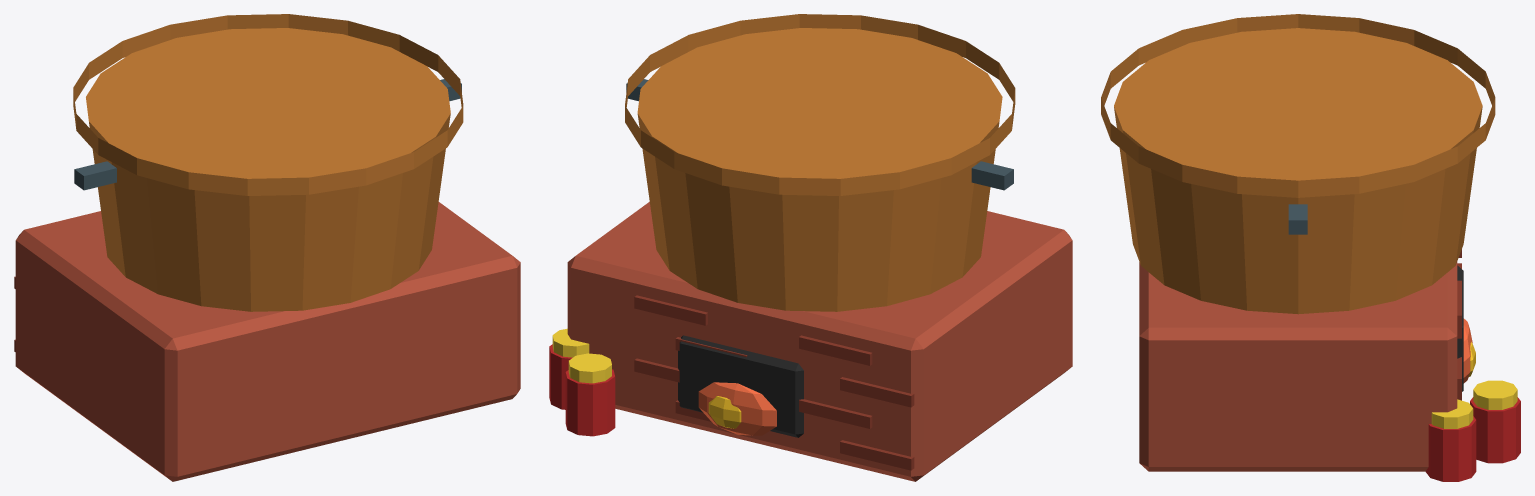
The model's file is Makine_Salca_M.fbx.
3 views of the same model, side by side, from view 1: azimuth 30°, elevation 25°; view 2: azimuth 150°, elevation 25°; view 3: azimuth 270°, elevation 25° (orthographic).
Visible parts, largest first — view 1: Makine_Salca; view 2: Makine_Salca; view 3: Makine_Salca.
Boxes of the visible parts, <box> form: Makine_Salca: <box>14,14,520,481</box>; Makine_Salca: <box>549,14,1072,481</box>; Makine_Salca: <box>1101,14,1520,481</box>.
Bounding box in the file's own units: 139 × 101 × 132.
